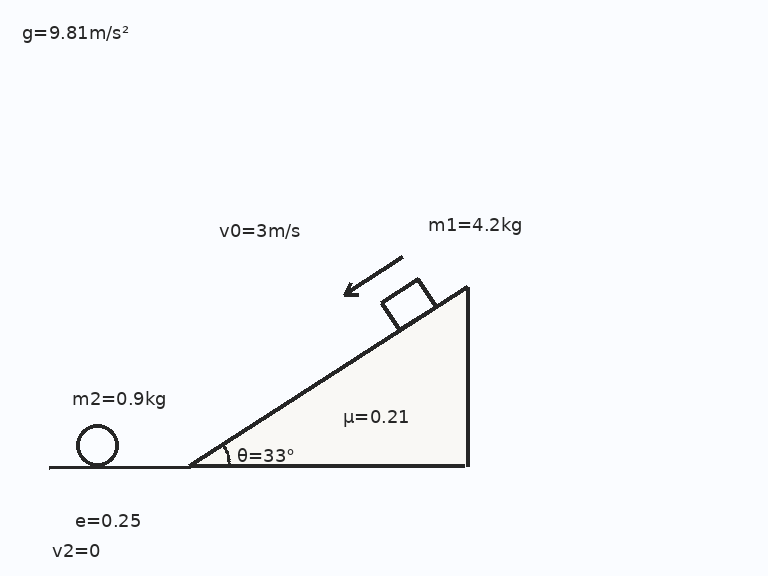ball: (74, 422, 120, 468)
block: (379, 277, 438, 332)
ramp: (187, 284, 469, 468)
